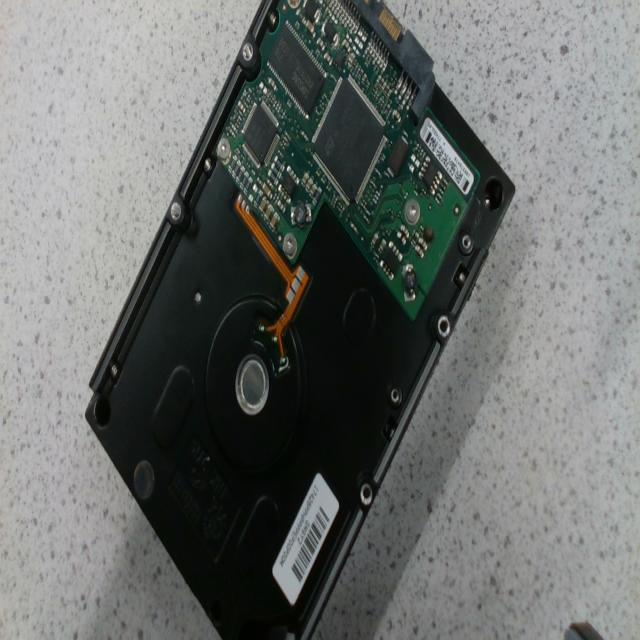case: (86, 0, 515, 639)
pcb: (221, 0, 480, 320)
screw: (404, 199, 420, 224), (216, 138, 231, 163), (283, 233, 297, 259)
